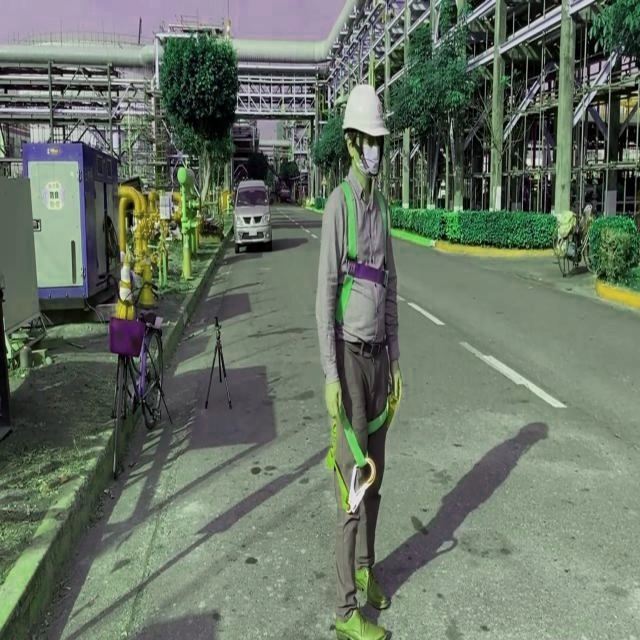safety belt: (288, 186, 433, 481)
